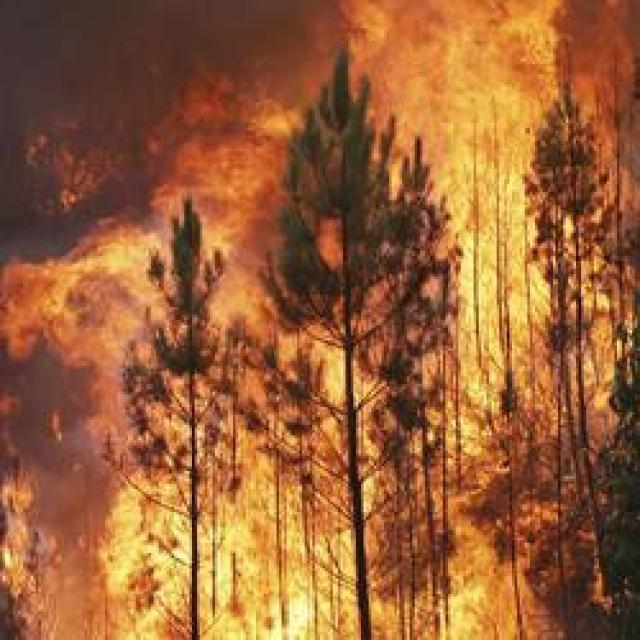Fire: (442, 0, 546, 383), (112, 507, 356, 640), (5, 225, 147, 362), (211, 145, 270, 345), (344, 4, 438, 111)
